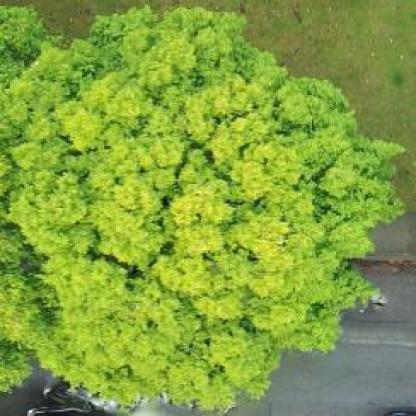Deciduous Tree: (0, 13, 392, 416), (0, 12, 44, 77)
